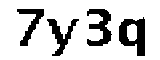3: (84, 7, 116, 49)
7: (11, 6, 49, 47)
q: (119, 16, 149, 57)
y: (46, 16, 79, 60)
